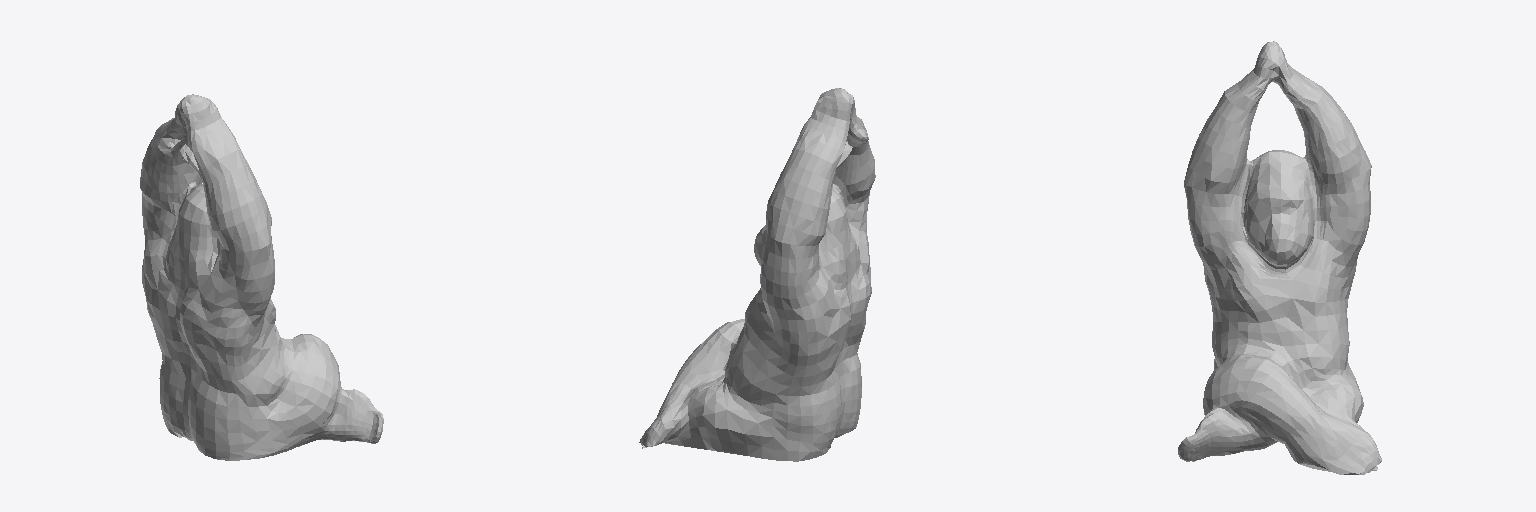
The model's file is gorilla.obj.
3 views of the same model, side by side, from view 1: azimuth 30°, elevation 25°; view 2: azimuth 150°, elevation 25°; view 3: azimuth 270°, elevation 25° (orthographic).
Visible parts, largest first — view 1: Gorilla; view 2: Gorilla; view 3: Gorilla.
Part boxes in pixels (left/top/right/bottom): Gorilla: left=140, top=94, right=383, bottom=460; Gorilla: left=639, top=88, right=875, bottom=461; Gorilla: left=1178, top=41, right=1381, bottom=474.
Size of the model in its own units: 1.04 by 2.04 by 1.05.